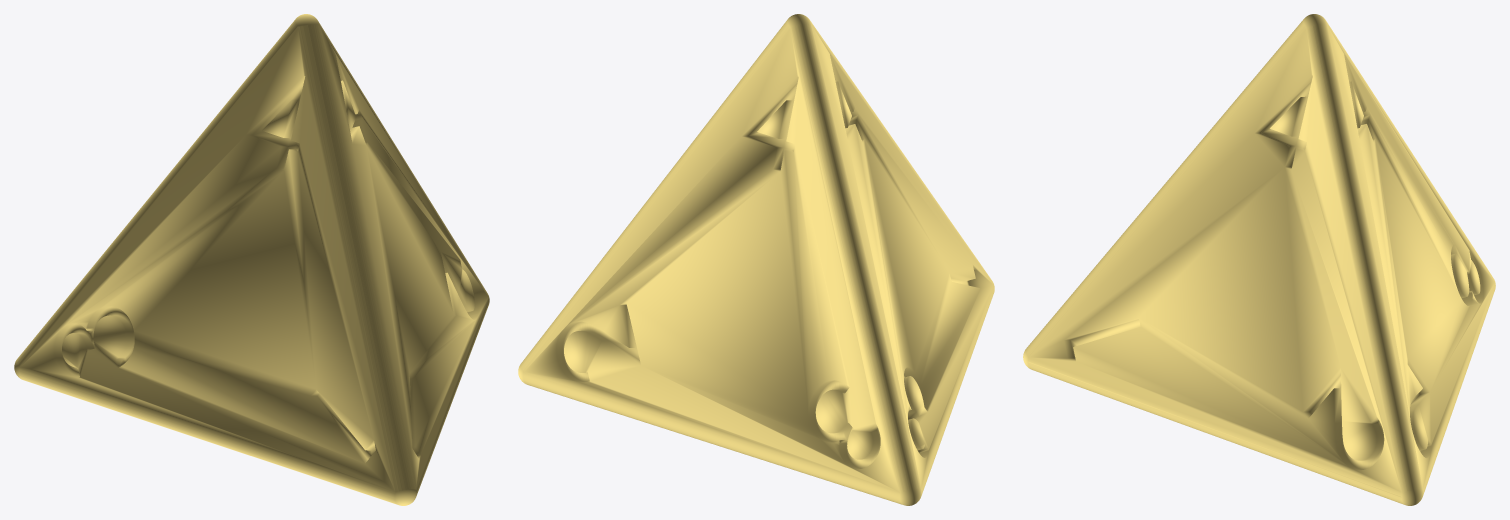
File: dado4ap.obj
3 views of the same model, side by side, from view 1: azimuth 30°, elevation 25°; view 2: azimuth 150°, elevation 25°; view 3: azimuth 270°, elevation 25° (orthographic).
Visible parts, largest first — view 1: 4_faces_chiffres; view 2: 4_faces_chiffres; view 3: 4_faces_chiffres.
Boxes of the visible parts, x1,y1,x2,y2 form: 4_faces_chiffres: (14,14,489,505); 4_faces_chiffres: (518,14,994,505); 4_faces_chiffres: (1023,14,1495,505).
Size of the model in its own units: 18.35 by 15.54 by 17.35.
